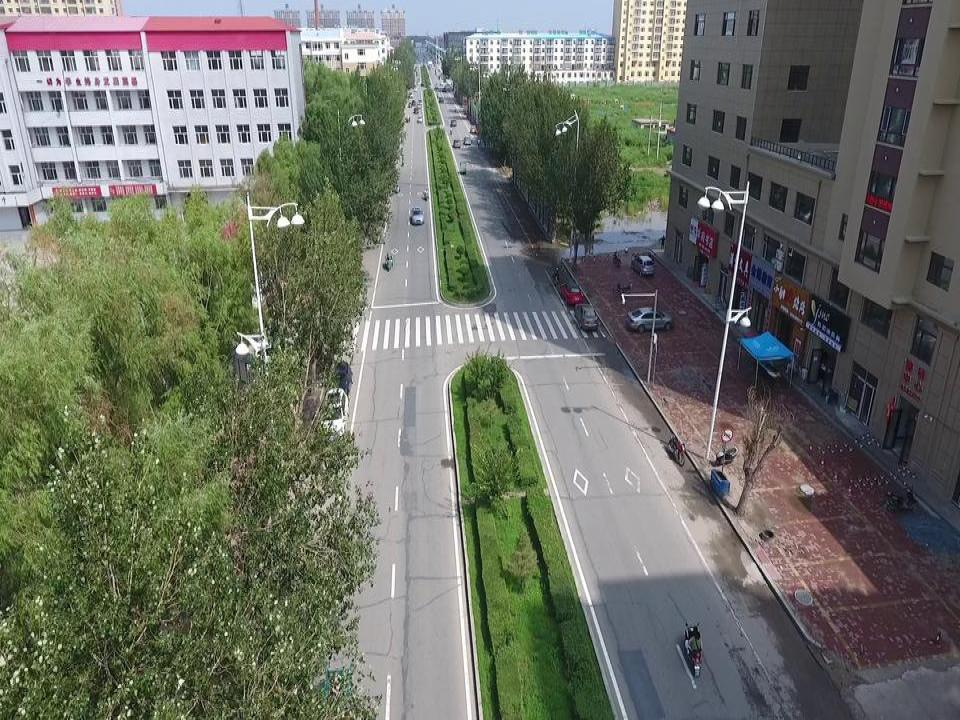car: (320, 388, 350, 443), (626, 307, 674, 332), (331, 362, 353, 402), (574, 302, 598, 330), (559, 281, 583, 307), (631, 256, 655, 276), (411, 207, 425, 225), (453, 139, 461, 148), (463, 135, 471, 144), (450, 118, 457, 127)
van: (470, 126, 477, 134), (417, 113, 422, 123)
